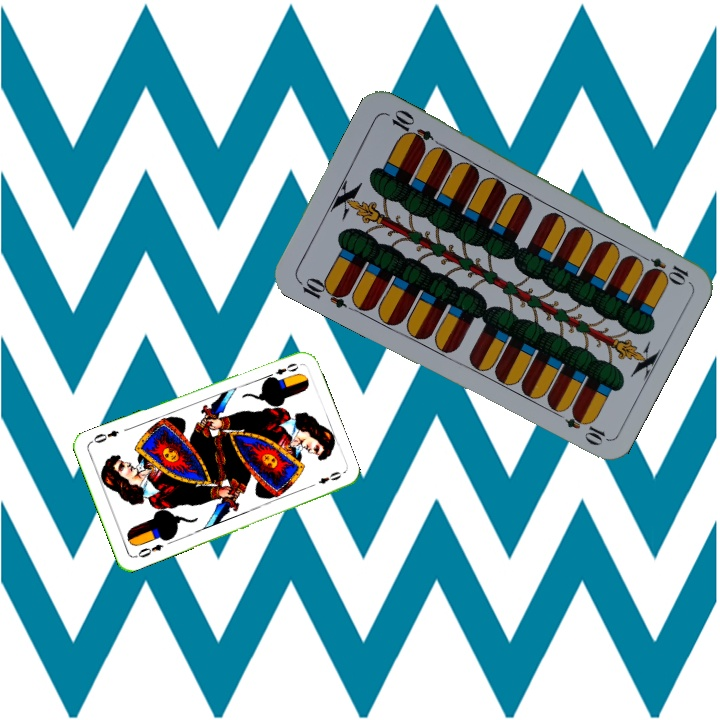E10: (294, 273, 352, 311), (634, 250, 691, 286)
EO: (263, 359, 301, 382), (134, 540, 166, 560)
